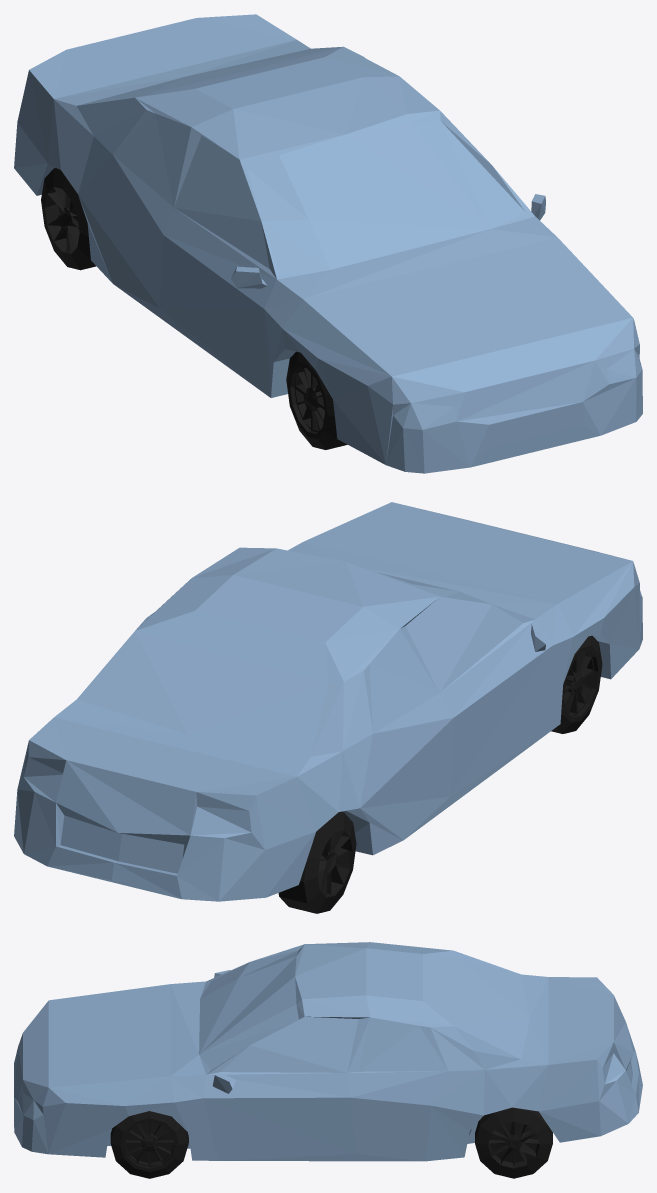
Rendered from NormalCar1.glb.
The picture shows the model from 3 angles, top to bottom: view 1: azimuth 30°, elevation 25°; view 2: azimuth 150°, elevation 25°; view 3: azimuth 270°, elevation 25°; orthographic projection. The views are drawn at different scales.
Visible parts, largest first — view 1: NormalCar1_Cube.012, NormalCar1_BackWheels_Cube.011, NormalCar1_FrontRightWheel_Cube.008; view 2: NormalCar1_Cube.012, NormalCar1_BackWheels_Cube.011, NormalCar1_FrontRightWheel_Cube.008; view 3: NormalCar1_Cube.012, NormalCar1_BackWheels_Cube.011, NormalCar1_FrontLeftWheel_Cube.007.
Boxes of the visible parts, x1=… form: NormalCar1_Cube.012: x1=14, y1=14, x2=642, y2=473; NormalCar1_BackWheels_Cube.011: x1=41, y1=168, x2=95, y2=270; NormalCar1_FrontRightWheel_Cube.008: x1=286, y1=351, x2=347, y2=449; NormalCar1_Cube.012: x1=14, y1=502, x2=642, y2=901; NormalCar1_BackWheels_Cube.011: x1=278, y1=811, x2=356, y2=913; NormalCar1_FrontRightWheel_Cube.008: x1=551, y1=635, x2=602, y2=733; NormalCar1_Cube.012: x1=14, y1=942, x2=642, y2=1161; NormalCar1_BackWheels_Cube.011: x1=475, y1=1107, x2=552, y2=1178; NormalCar1_FrontLeftWheel_Cube.007: x1=110, y1=1111, x2=188, y2=1178.
Size of the model in its own units: 1.81 by 1.18 by 4.21.
